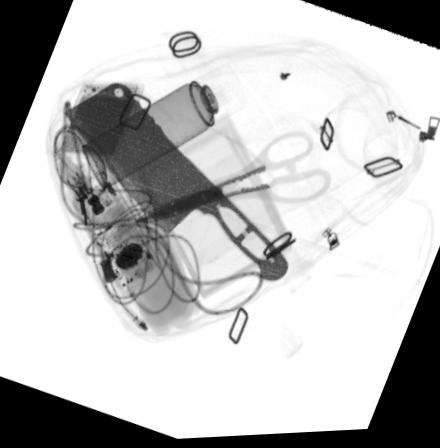Knife: (61, 82, 286, 284)
Powerbank: (68, 160, 171, 297)
Scissors: (130, 131, 330, 227)
Sprayer: (81, 65, 245, 191)
